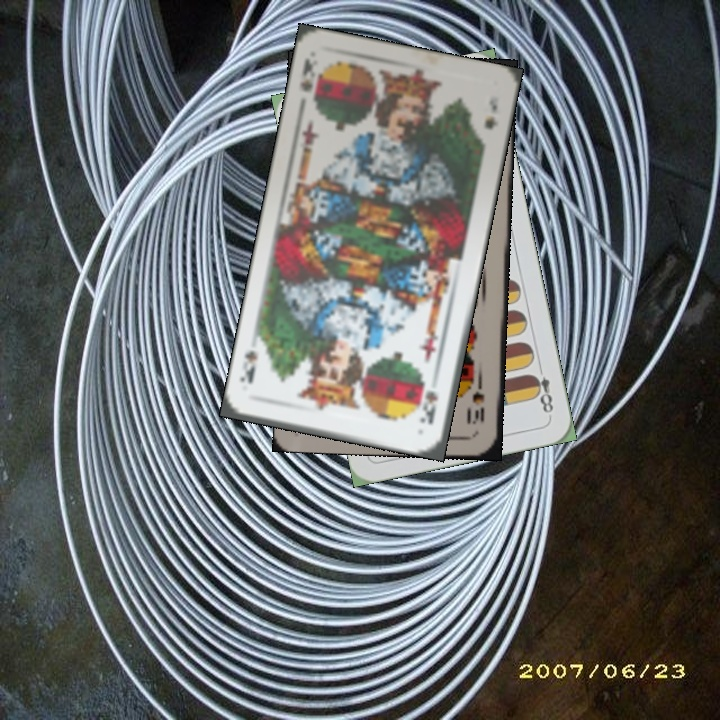E8: (527, 360, 556, 416)
S10: (467, 374, 487, 428)
SK: (416, 387, 441, 427), (296, 54, 315, 95)
